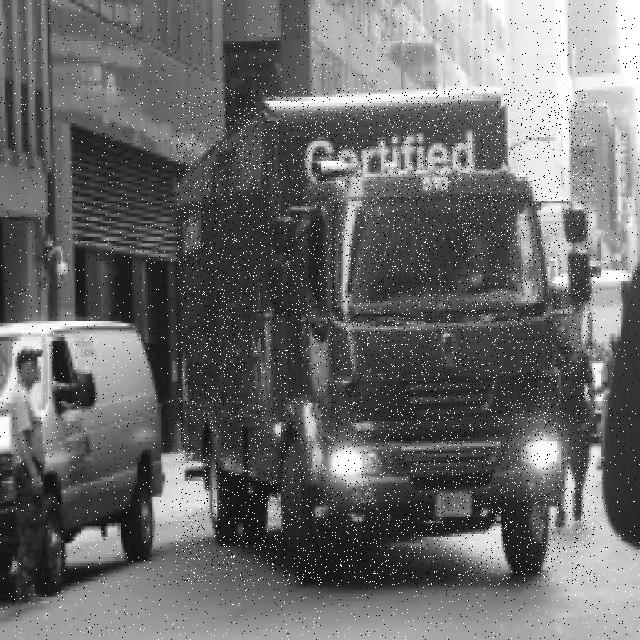Box Truck: (176, 88, 596, 586)
